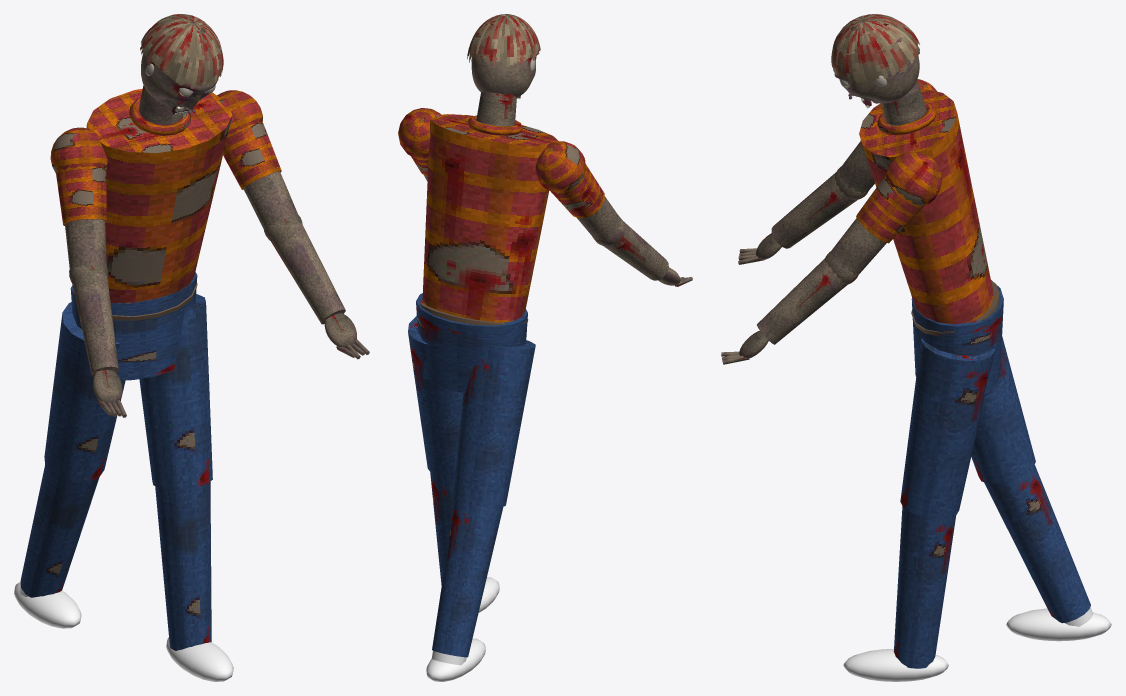
Rendered from Zombie_147.glb.
3 views of the same model, side by side, from view 1: azimuth 30°, elevation 25°; view 2: azimuth 150°, elevation 25°; view 3: azimuth 270°, elevation 25° (orthographic). The views are drawn at different scales.
Visible parts, largest first — view 1: Zombie_147, object 43, object 10, object 3, object 16, object 11, object 4; view 2: Zombie_147, object 43, object 16, object 3; view 3: Zombie_147, object 43, object 10, object 3, object 16.
Part boxes in pixels (left/top/right/bottom): Zombie_147: left=14, top=85, right=298, bottom=681; object 43: left=140, top=14, right=223, bottom=88; object 10: left=270, top=222, right=345, bottom=324; object 3: left=72, top=273, right=118, bottom=376; object 16: left=141, top=29, right=217, bottom=110; object 11: left=324, top=313, right=356, bottom=347; object 4: left=93, top=370, right=122, bottom=403; Zombie_147: left=398, top=92, right=621, bottom=681; object 43: left=467, top=14, right=540, bottom=63; object 16: left=471, top=36, right=536, bottom=97; object 3: left=604, top=222, right=668, bottom=280; Zombie_147: left=830, top=79, right=1111, bottom=681; object 43: left=831, top=14, right=919, bottom=81; object 10: left=757, top=258, right=848, bottom=344; object 3: left=771, top=172, right=857, bottom=248; object 16: left=834, top=23, right=919, bottom=103.
Size of the model in its own units: 0.6949 by 1.75 by 0.9559.
16 materials, 6 textured.
